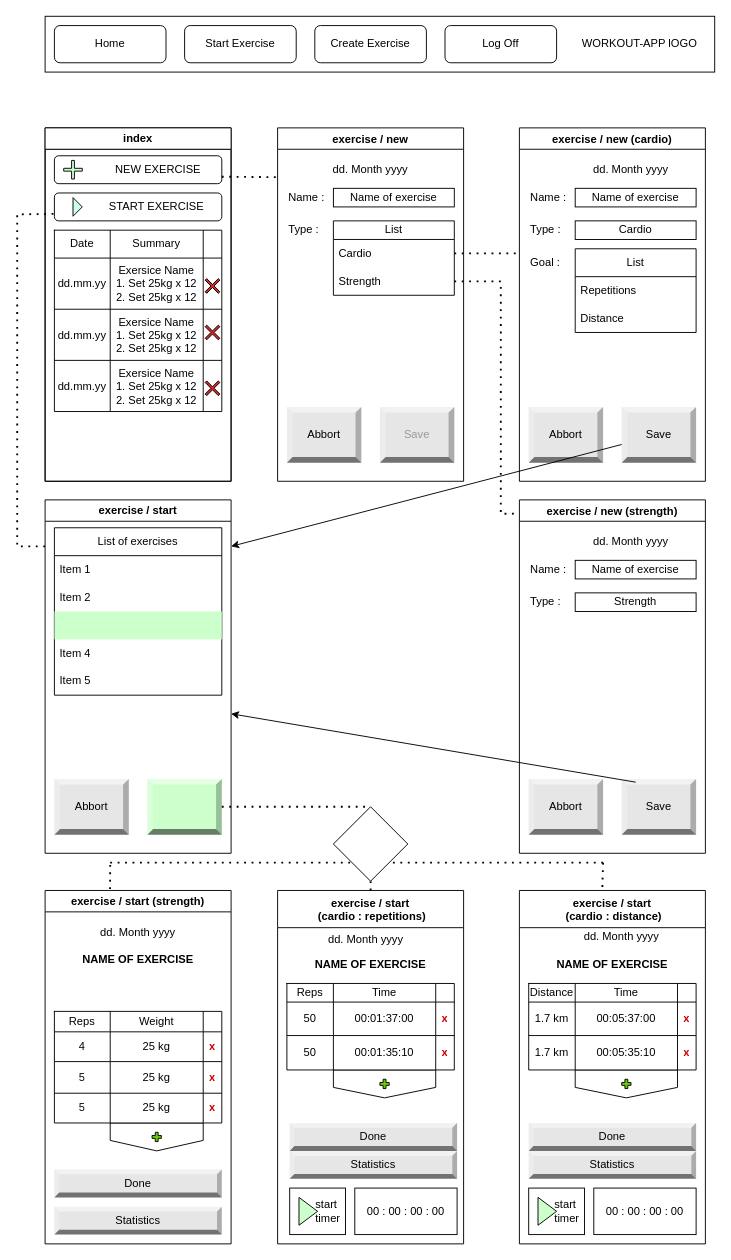
This 731x1260 diagram has some shape labels left out. The centre of each missing label's shape, as x and y in pixels:
"exercise. type" belongs at (x=370, y=843).
"Go" belongs at (x=184, y=806).
"Item 3" belongs at (x=137, y=625).
